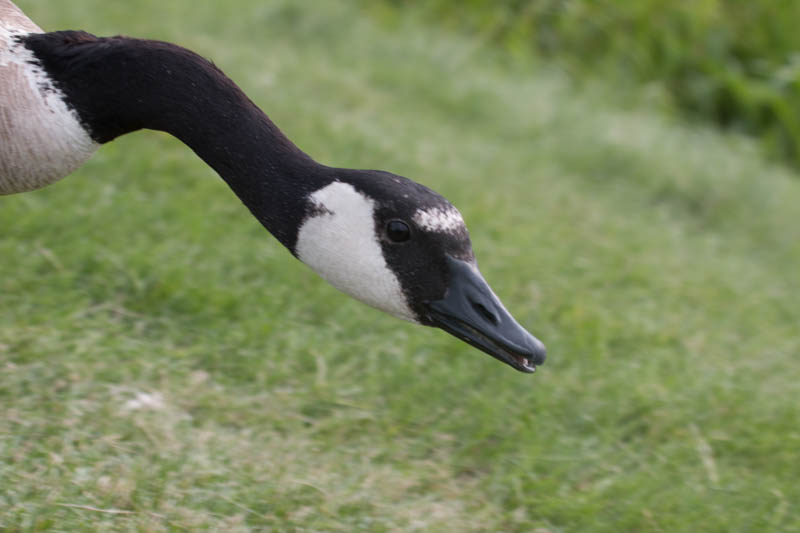goose-head: (281, 167, 546, 375)
